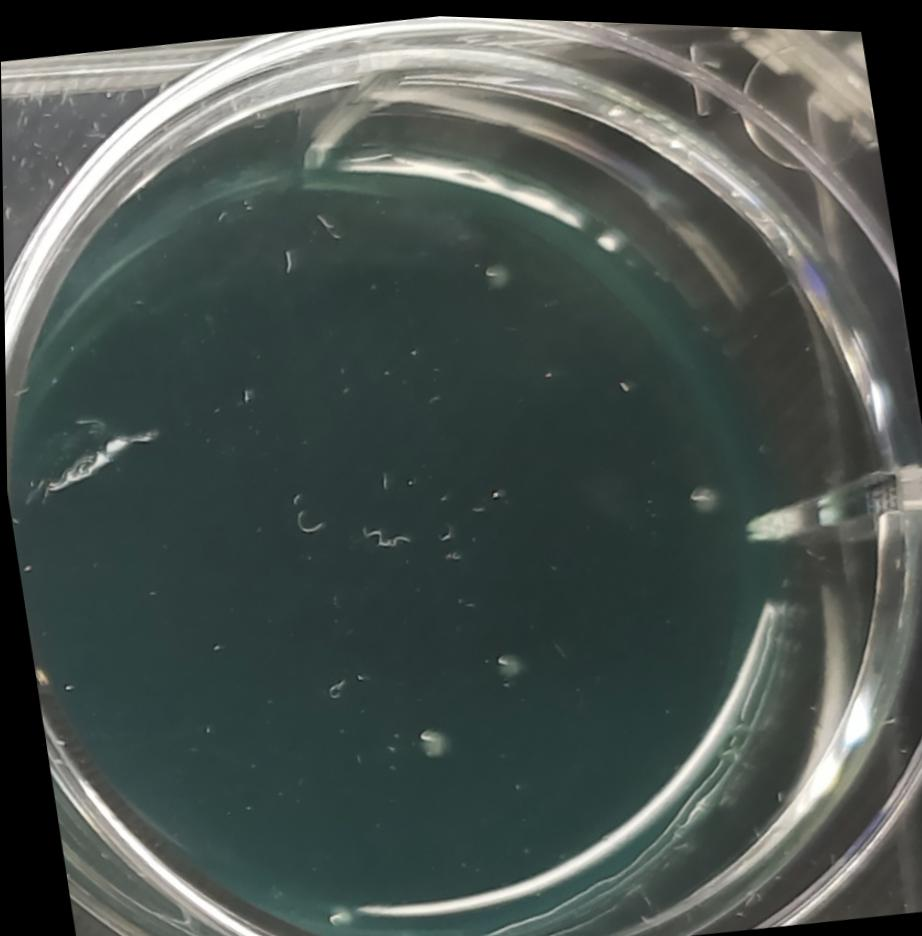vangil: (674, 462, 725, 522), (483, 632, 535, 688), (467, 247, 519, 295), (313, 889, 356, 936), (407, 719, 451, 763)
